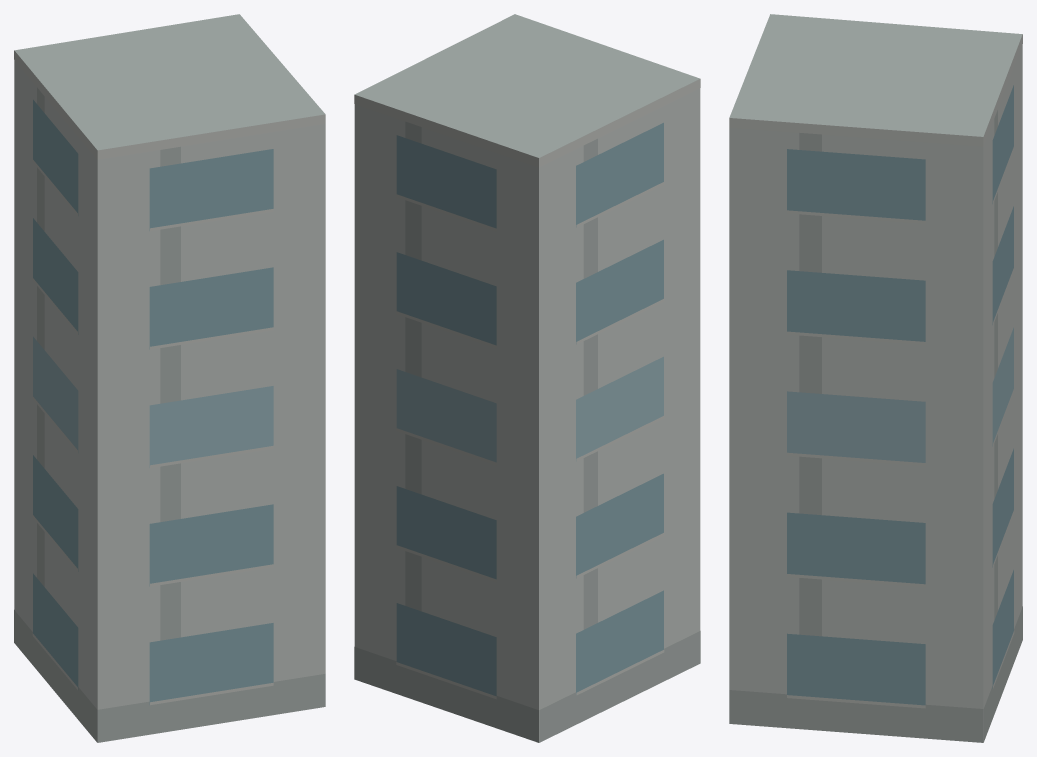
The model's file is survey-upis-32633956.glb.
3 views of the same model, side by side, from view 1: azimuth 30°, elevation 25°; view 2: azimuth 150°, elevation 25°; view 3: azimuth 270°, elevation 25° (orthographic). The views are drawn at different scales.
Visible parts, largest first — view 1: survey-upis-32633956.tmp; view 2: survey-upis-32633956.tmp; view 3: survey-upis-32633956.tmp.
Boxes of the visible parts, <box> form: survey-upis-32633956.tmp: <box>14,14,325,742</box>; survey-upis-32633956.tmp: <box>354,14,700,742</box>; survey-upis-32633956.tmp: <box>729,14,1022,742</box>.
Size of the model in its own units: 6.65 by 15.25 by 6.7.
